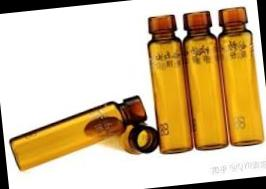glass: (136, 4, 195, 160), (210, 0, 266, 160), (175, 0, 230, 153)
